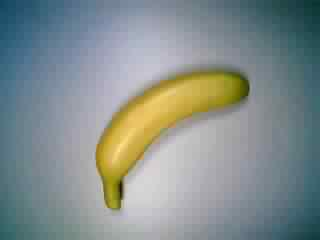banana: (91, 66, 254, 213)
